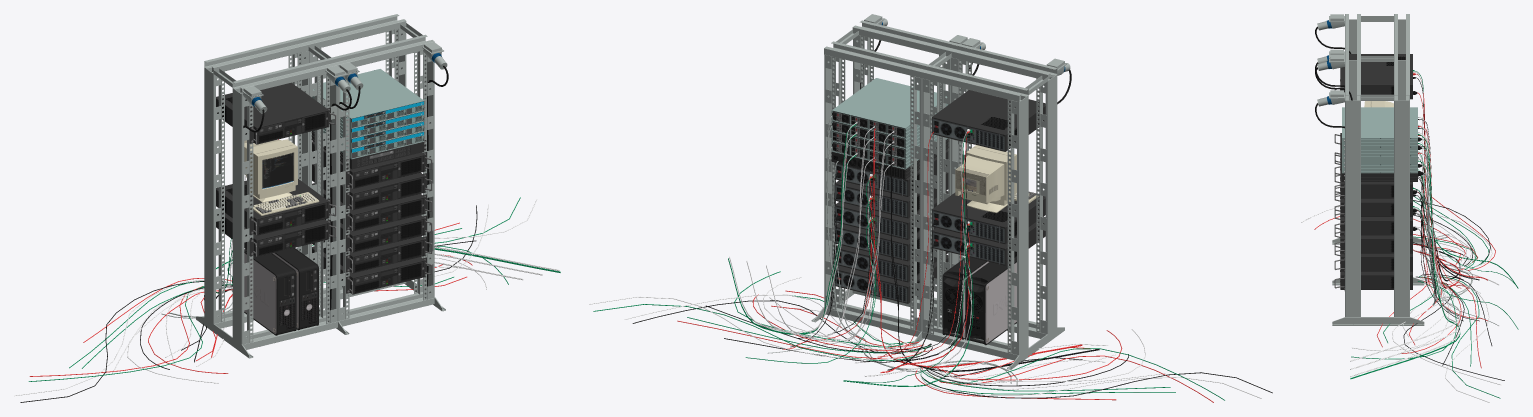
File: Data Server System Equipment 2_fbx 2.FBX
The picture shows the model from 3 angles, left to right: view 1: azimuth 30°, elevation 25°; view 2: azimuth 150°, elevation 25°; view 3: azimuth 270°, elevation 25°; orthographic projection. The views are drawn at different scales.
Parts seen in each view (by area): view 1: RACK_02, CHASSIS_3_ncl1_1, RACK_03, CHASSIS_3, IPS, CABLE_01, Monitor, RACK_01, CABLE_02, CHASSIS_3B, Keyboard; view 2: RACK_02, CHASSIS_3_ncl1_1, RACK_03, CABLE_02, CABLE_01, CHASSIS_3, IPS, Monitor, RACK_01, CHASSIS_3B; view 3: RACK_02, CHASSIS_3_ncl1_1, CABLE_02, CABLE_01, RACK_03, CHASSIS_3, RACK_01, CHASSIS_3B.
Part boxes in pixels (box(x1,y1,x2,y2)): RACK_02: box(204, 28, 434, 344); CHASSIS_3_ncl1_1: box(216, 82, 432, 294); RACK_03: box(196, 14, 445, 358); CHASSIS_3: box(312, 69, 426, 159); IPS: box(244, 248, 318, 335); CABLE_01: box(14, 197, 537, 402); Monitor: box(244, 139, 297, 202); RACK_01: box(241, 42, 448, 310); CABLE_02: box(161, 70, 560, 362); CHASSIS_3B: box(311, 131, 426, 169); Keyboard: box(251, 192, 319, 215); RACK_02: box(824, 35, 1057, 355); CHASSIS_3_ncl1_1: box(834, 90, 1045, 303); RACK_03: box(811, 20, 1064, 369); CABLE_02: box(728, 112, 1099, 386); CABLE_01: box(589, 271, 1272, 402); CHASSIS_3: box(831, 78, 948, 169); IPS: box(942, 257, 1016, 345); Monitor: box(955, 145, 1016, 212); RACK_01: box(860, 14, 1071, 143); CHASSIS_3B: box(831, 138, 949, 179); RACK_02: box(1345, 19, 1409, 316); CHASSIS_3_ncl1_1: box(1334, 54, 1412, 290); CABLE_02: box(1350, 70, 1518, 379); CABLE_01: box(1301, 196, 1504, 402); RACK_03: box(1332, 14, 1424, 325); CHASSIS_3: box(1342, 107, 1417, 173); RACK_01: box(1315, 14, 1352, 128); CHASSIS_3B: box(1341, 143, 1417, 181).
Size of the model in its own units: 185 by 67.53 by 78.88.
